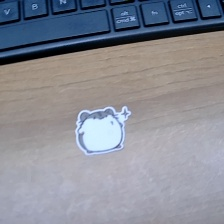mouse: (75, 105, 132, 157)
